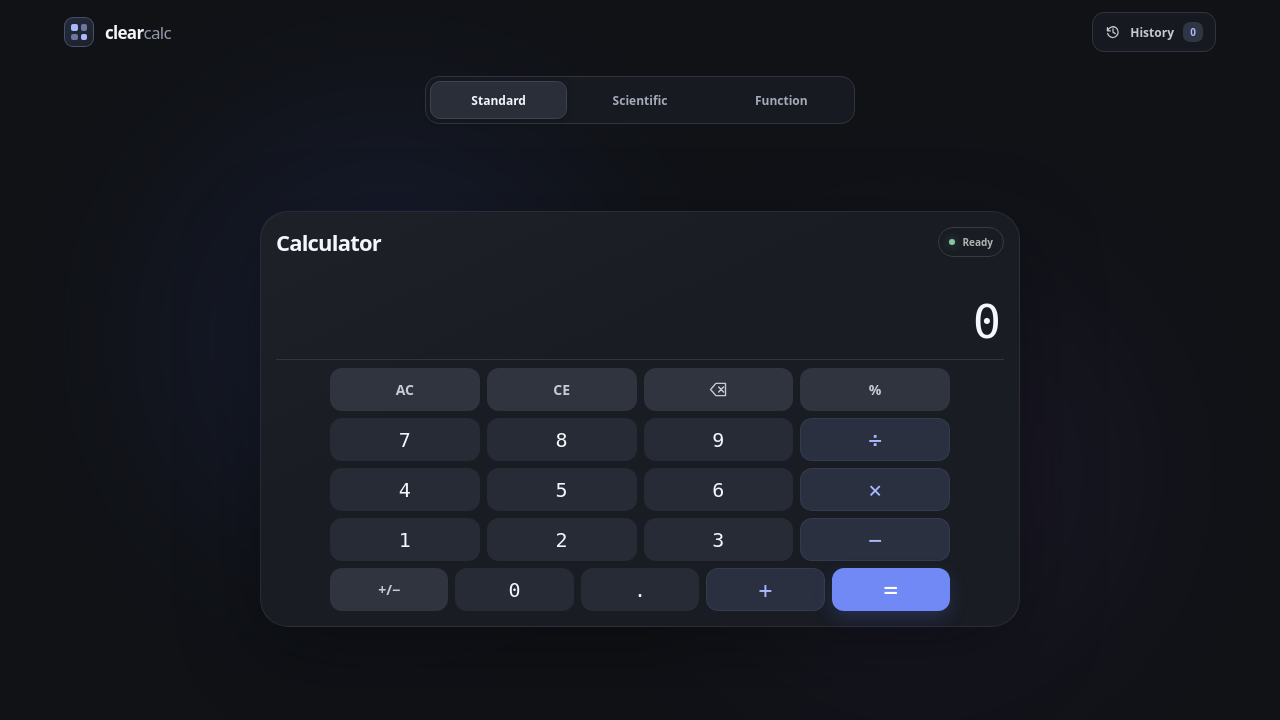
Test: Calculator › shows a recoverable division-by-zero error
Click the button "8" at coordinates (562, 440), box [487, 418, 637, 461]
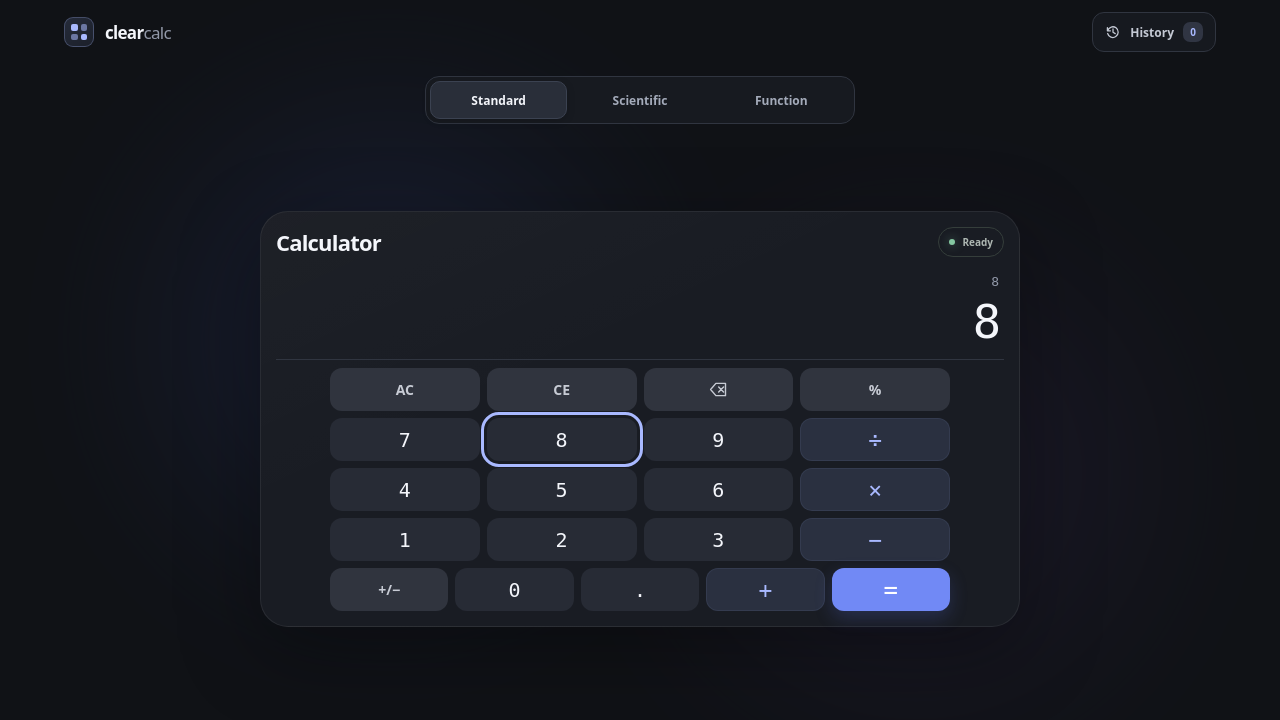
Click the button named "Divide" at coordinates (875, 440), box [800, 418, 950, 461]
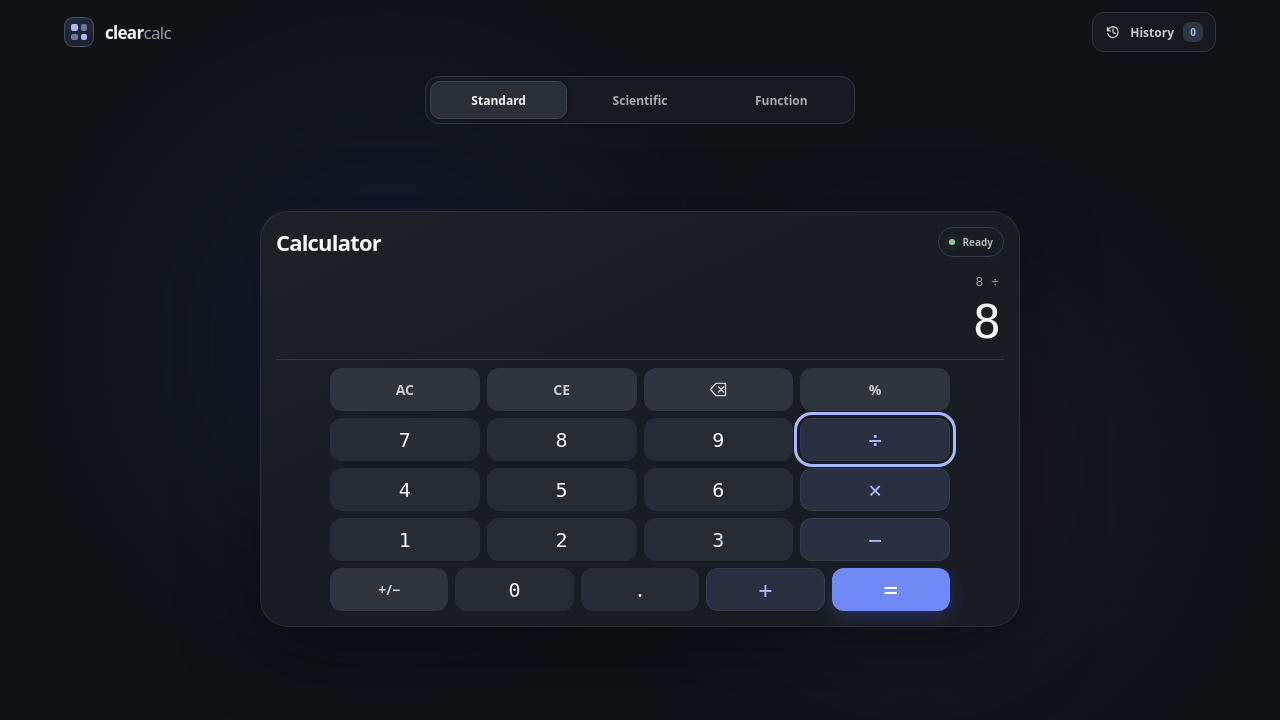
Click the button "0" at coordinates (515, 590), box [455, 568, 574, 611]
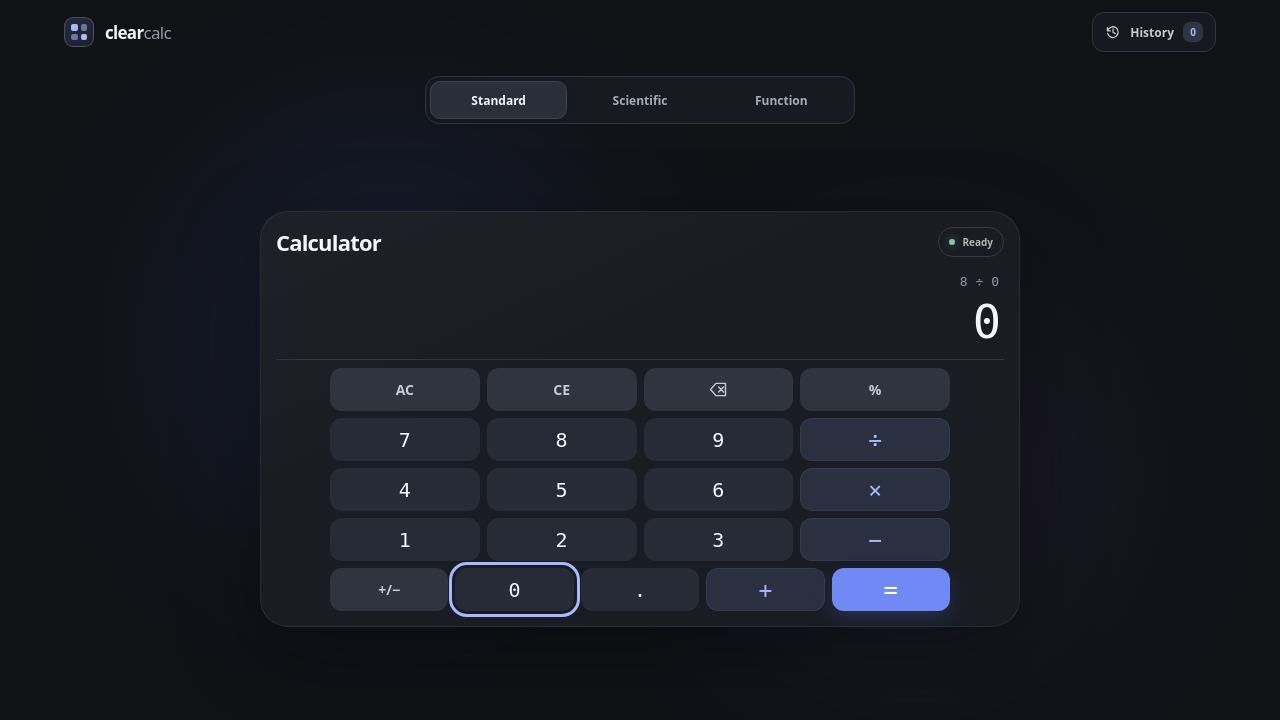
Click the button named "Equals" at coordinates (891, 590), box [832, 568, 950, 611]
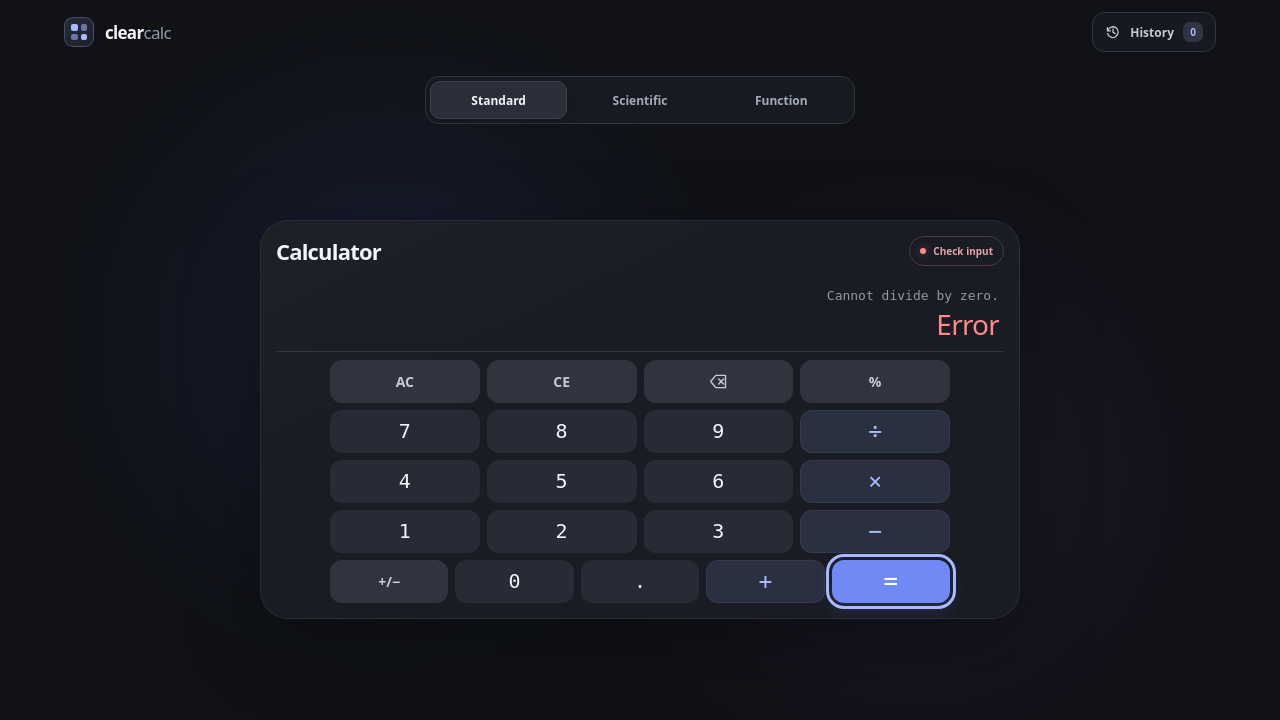
Result: the text named "Calculation error" reads "Error" at [936, 305, 999, 343]
Result: the element named "Calculator display" shows "Cannot divide by zero." at [827, 288, 999, 303]
Click the button "7" at coordinates (405, 431), box [330, 410, 480, 452]
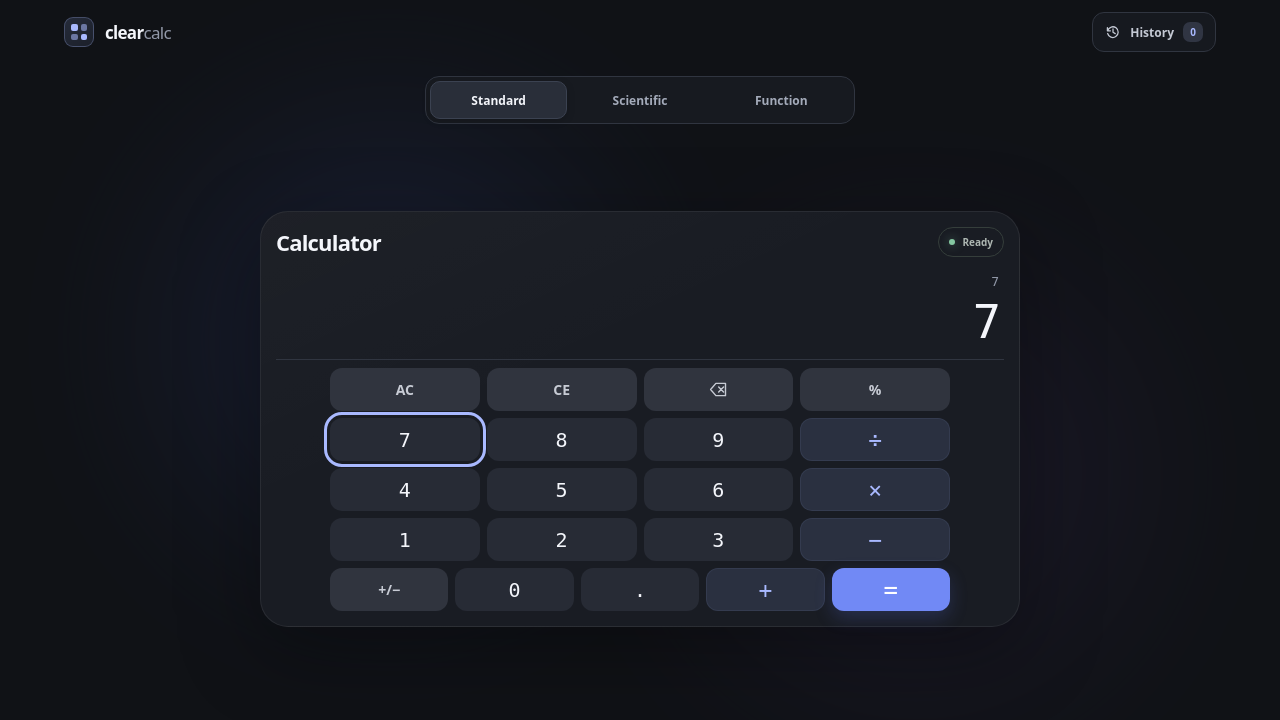
Result: the text named "Current value" reads "7" at [973, 294, 999, 349]
